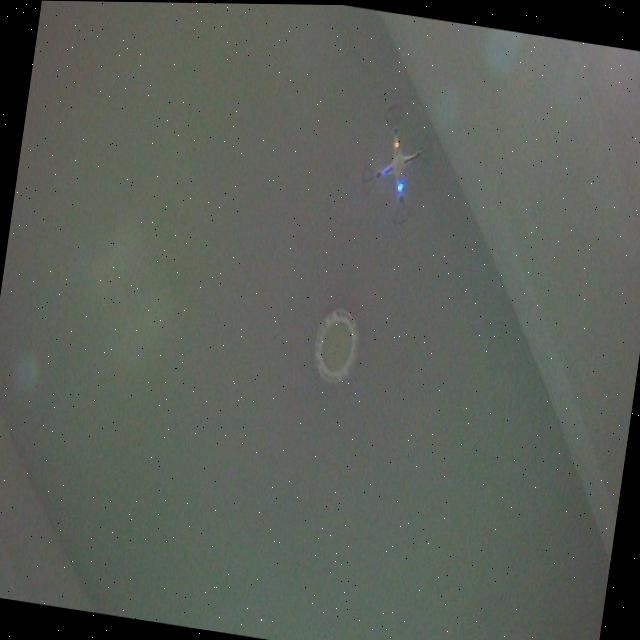drone: (352, 95, 442, 232)
